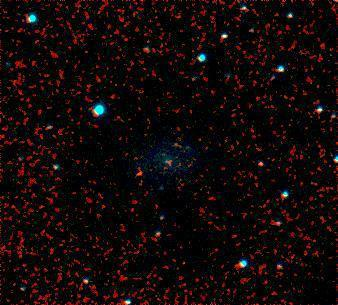star: (123, 158, 153, 188)
